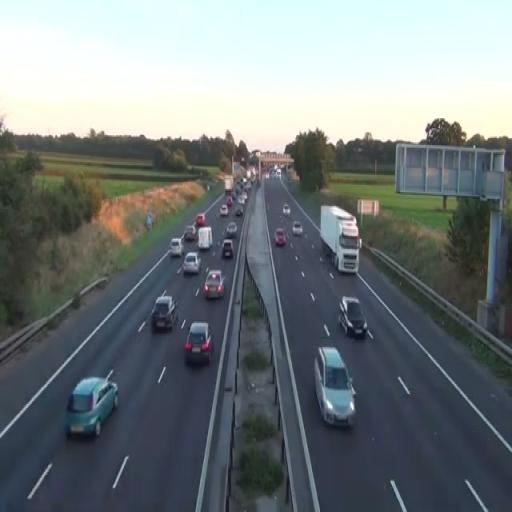Car: (64, 375, 120, 440), (314, 344, 356, 428), (338, 295, 368, 339), (184, 322, 213, 366), (151, 294, 179, 332), (202, 269, 226, 300), (182, 252, 202, 276), (170, 237, 184, 257), (222, 239, 234, 259), (274, 228, 286, 248), (226, 220, 237, 238)
Truck: (320, 205, 361, 274)
